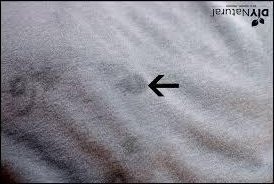oil: (97, 58, 149, 99)
